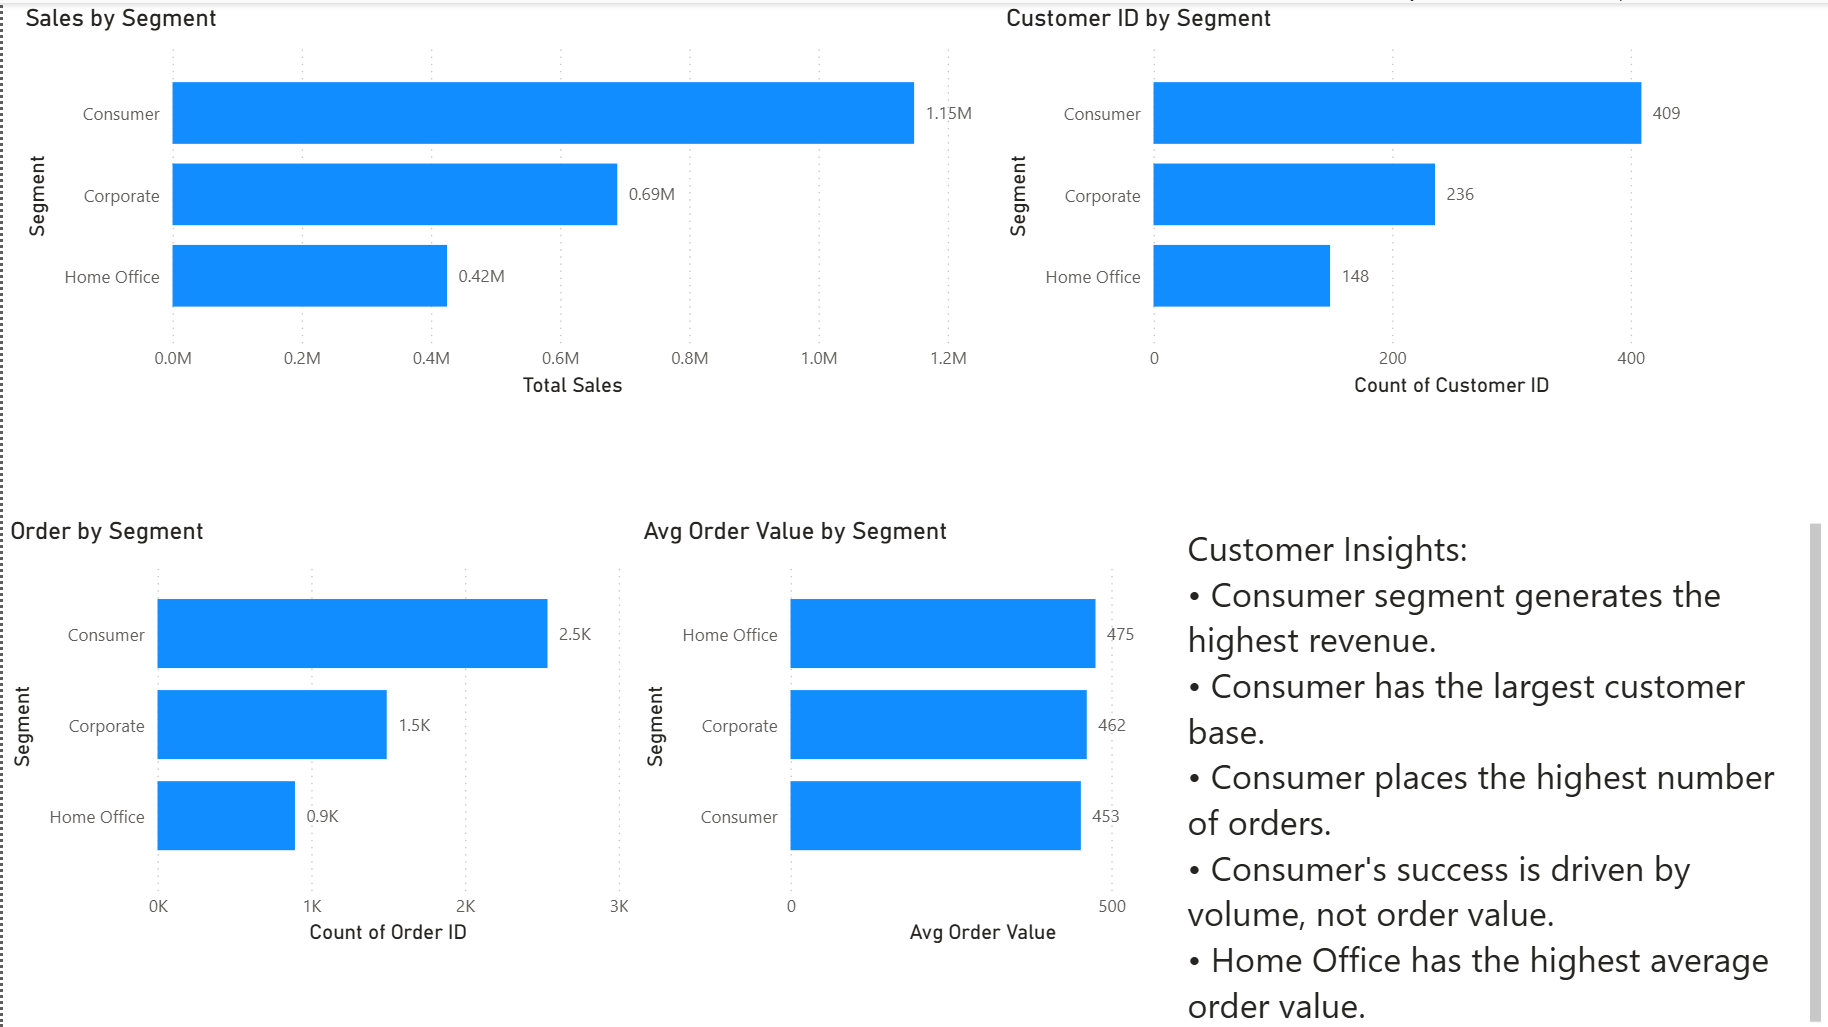

The dashboard page shown, as its layout file describes it:
{"tool":"powerbi","page":{"name":"Customer Analysis","canvas":[1280,720],"ordinal":1},"visuals":[{"type":"clusteredBarChart","title":"Sales by Segment","fields":{"Category":["train.Segment"],"Y":["train.Total Sales"]},"box":[10.7,0,687.9,279.7],"z":0},{"type":"clusteredBarChart","title":"Customer ID by Segment","fields":{"Category":["train.Segment"],"Y":["Count(train.Customer ID)"]},"box":[698.6,0,541.1,279.7],"z":1000},{"type":"clusteredBarChart","title":"Order by Segment","fields":{"Category":["train.Segment"],"Y":["Count(train.Order ID)"]},"box":[0,359.2,443.3,304.2],"z":2000},{"type":"clusteredBarChart","fields":{"Category":["train.Segment"],"Y":["train.Avg Order Value"]},"box":[443.3,359.2,392.9,304.2],"z":3000},{"type":"textbox","box":[825.5,359.2,454,360.8],"z":4000}]}

Visuals, with their boxes in screenshot pixels (x1, y1, x2, y2), scaled from the page's 1280x720 canvas onto the 1828x1027 screenshot:
"Sales by Segment" clusteredBarChart: 15,0,998,399
"Customer ID by Segment" clusteredBarChart: 998,0,1770,399
"Order by Segment" clusteredBarChart: 0,512,633,946
clusteredBarChart - train.Segment x train.Avg Order Value: 633,512,1194,946
textbox: 1179,512,1827,1026
